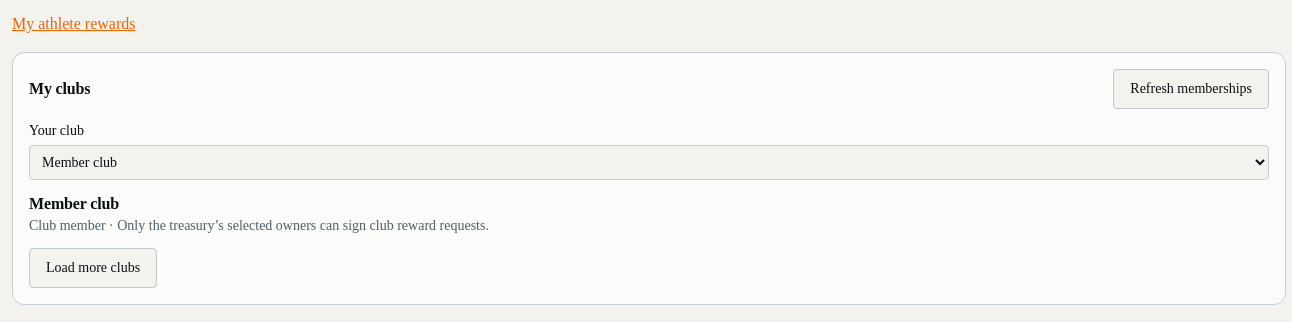
Test: loads additional memberships and exposes manager controls only for manager rows
Click the button "Load more clubs" at (93, 268), box [29,248,157,288]
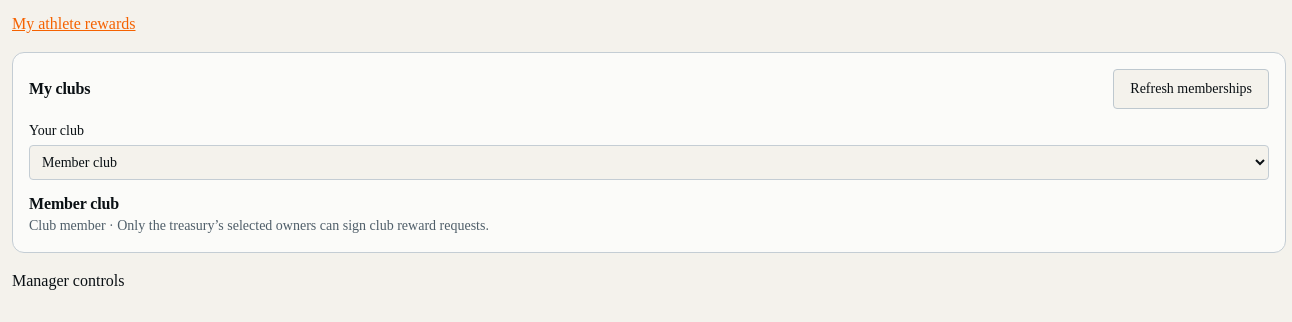
Expected: the text "Manager controls" is shown, [12,272,124,289]
